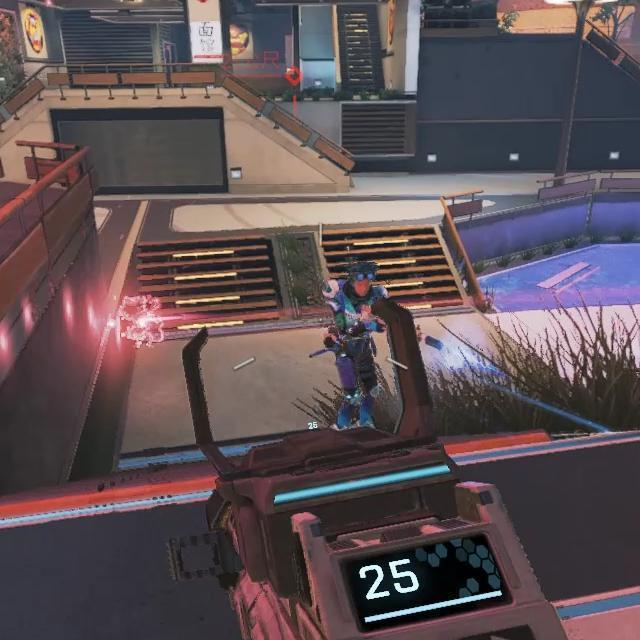avatar: (320, 258, 389, 432)
